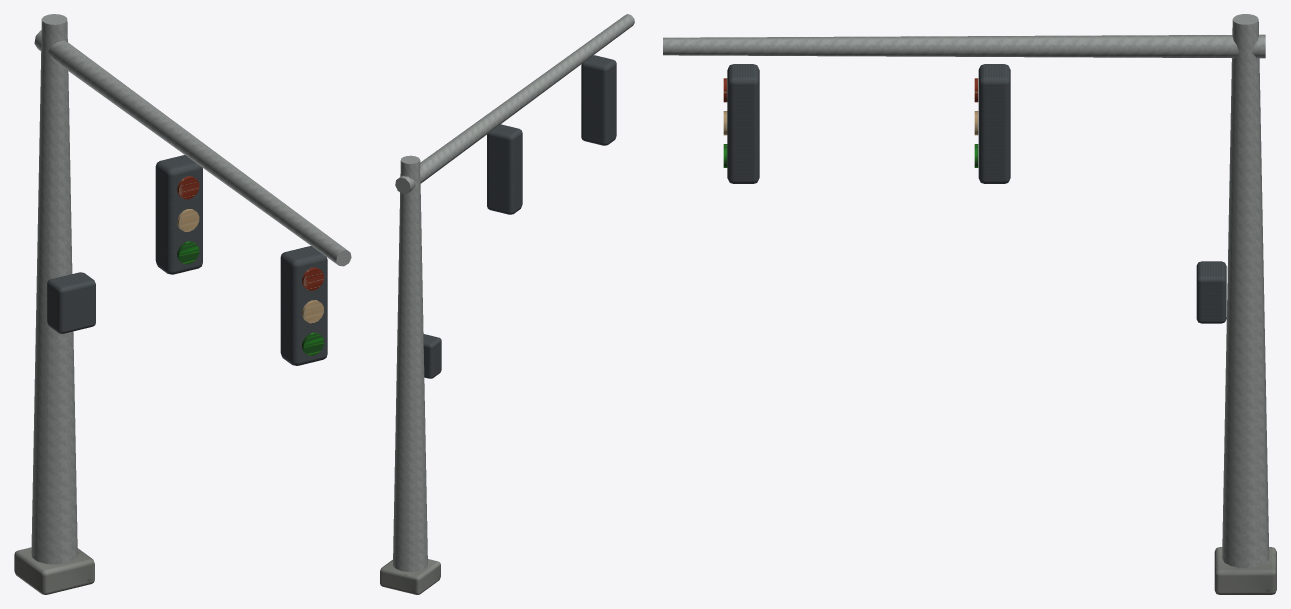
Rendered from street-signal-mast.lod0.gltf.
3 renders of one model, left to right at view 1: azimuth 30°, elevation 25°; view 2: azimuth 150°, elevation 25°; view 3: azimuth 270°, elevation 25°, orthographic. The views are drawn at different scales.
Parts seen in each view (by area): view 1: street-signal-mast; view 2: street-signal-mast; view 3: street-signal-mast.
Part boxes in pixels (x1=…): street-signal-mast: x1=14, y1=14, x2=351, y2=594; street-signal-mast: x1=380, y1=14, x2=634, y2=594; street-signal-mast: x1=663, y1=14, x2=1276, y2=594.
Bounding box in the file's own units: 0.62 × 6.2 × 6.11.
Materials: 6 (6 with a texture image).
